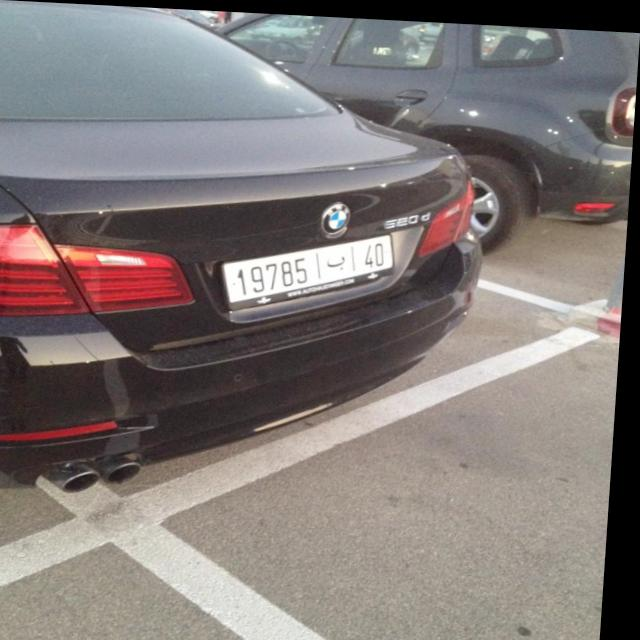License-Plate: (227, 231, 395, 299)
